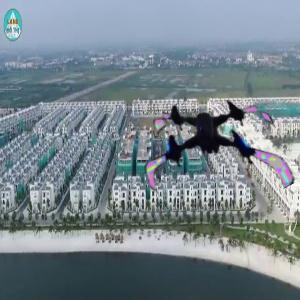drone: (137, 76, 283, 222)
